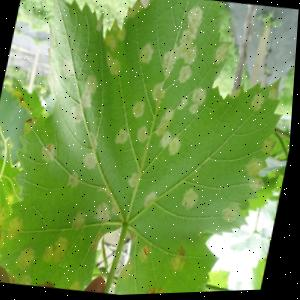Folha: (0, 0, 300, 300)
Fungo: (161, 2, 207, 83), (68, 71, 100, 125), (44, 233, 74, 268), (101, 19, 129, 56), (155, 104, 179, 140), (78, 72, 100, 111), (243, 155, 267, 185), (18, 242, 42, 272), (171, 245, 191, 275), (166, 132, 186, 162), (181, 187, 202, 214), (6, 215, 27, 242), (212, 42, 229, 75), (102, 54, 123, 80), (190, 83, 210, 108), (136, 41, 155, 67), (260, 135, 279, 161), (249, 174, 266, 203), (95, 200, 115, 224), (126, 0, 146, 24), (24, 112, 42, 138), (150, 80, 168, 105), (40, 141, 58, 164), (72, 210, 90, 233), (81, 150, 100, 171), (249, 92, 266, 115), (177, 64, 194, 87), (223, 207, 242, 225), (114, 127, 131, 147), (91, 231, 105, 255), (16, 272, 38, 287), (148, 282, 173, 295), (268, 83, 282, 105), (136, 125, 151, 145), (132, 100, 147, 119), (145, 191, 159, 210), (140, 245, 153, 264), (187, 102, 202, 118), (68, 171, 82, 188), (127, 171, 140, 189), (160, 131, 173, 149), (178, 95, 189, 116), (95, 14, 105, 35), (72, 280, 84, 291)
